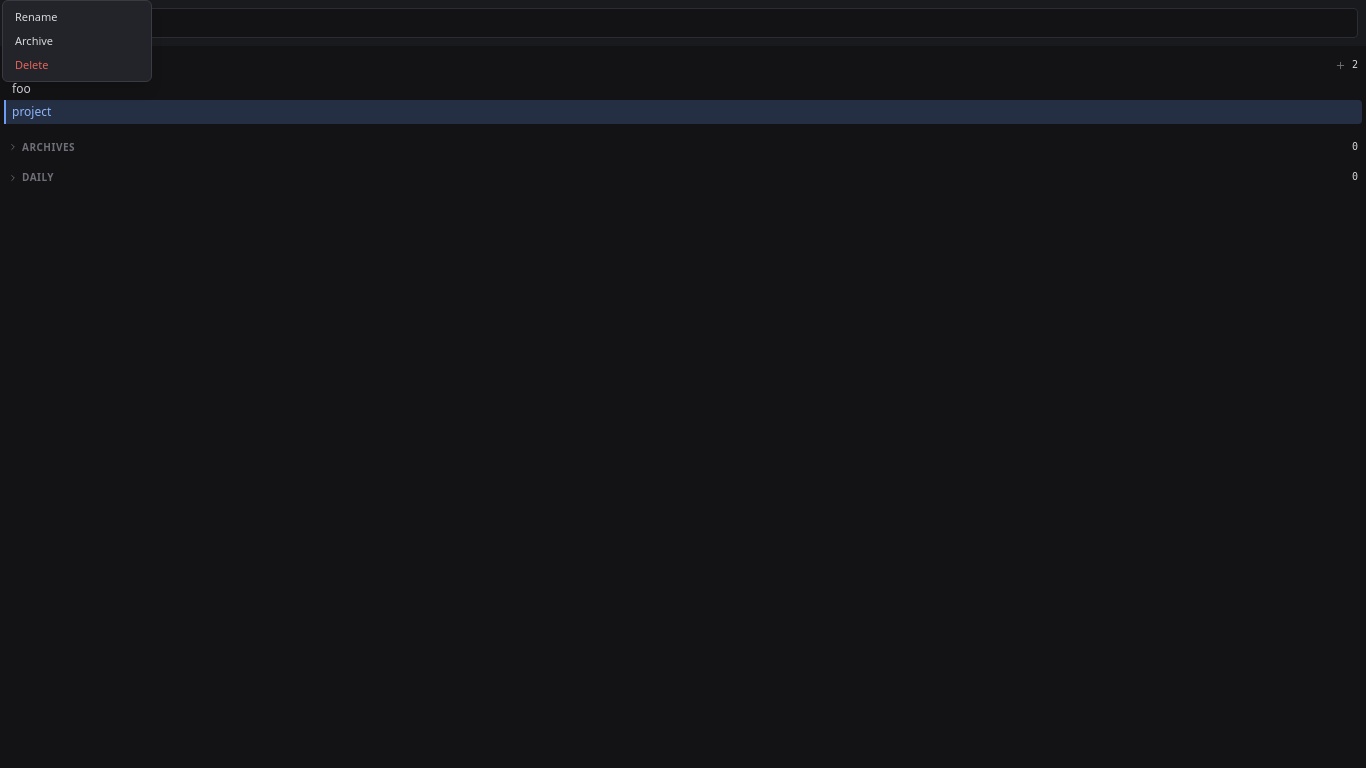
RenameNoteDialog › renames a non-current note without touching the open editor
Click the menu item "Rename".
click(36, 16)  # box [15, 9, 58, 24]
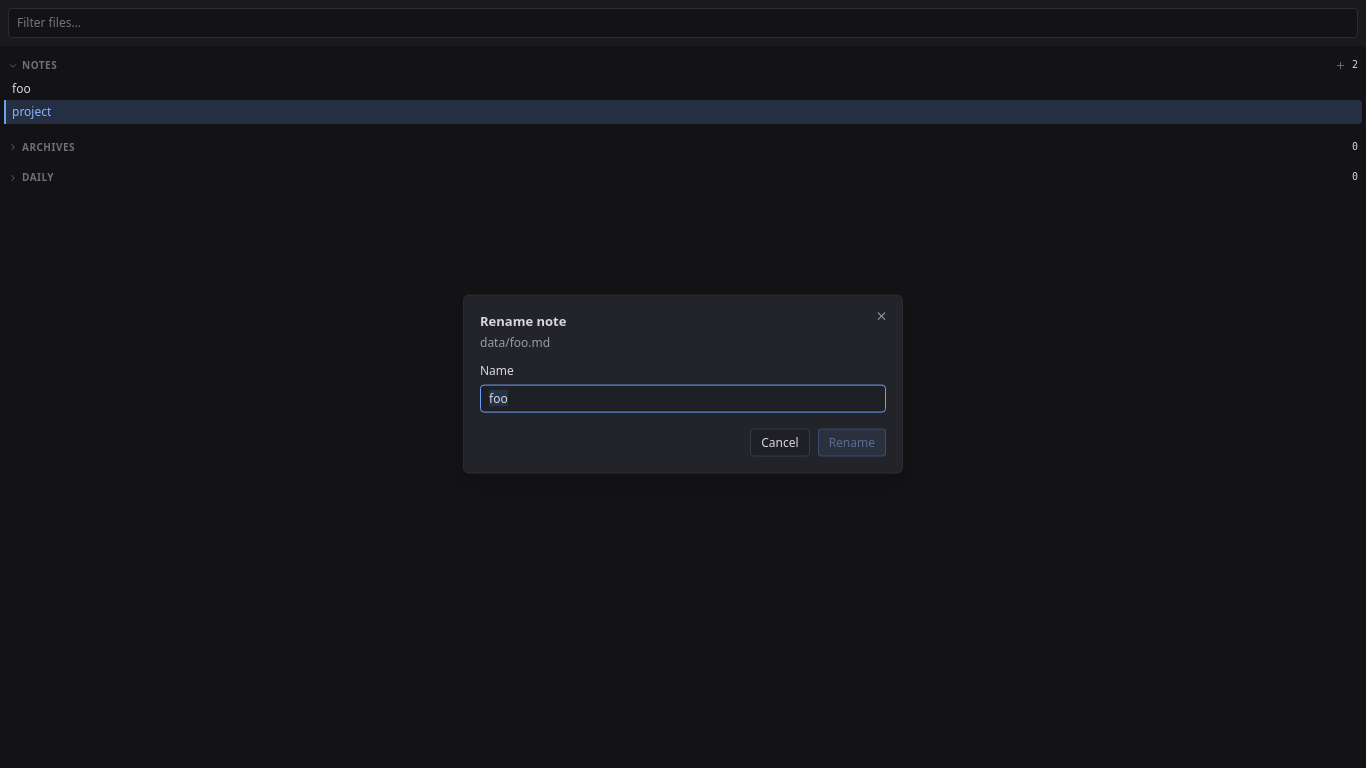
Now the field with test id "rename-note-name" is shown
Now the field with test id "rename-note-name" holds "foo"
Replace the text in the field with test id "rename-note-name" with "bar" at (683, 398), box [480, 384, 886, 412]
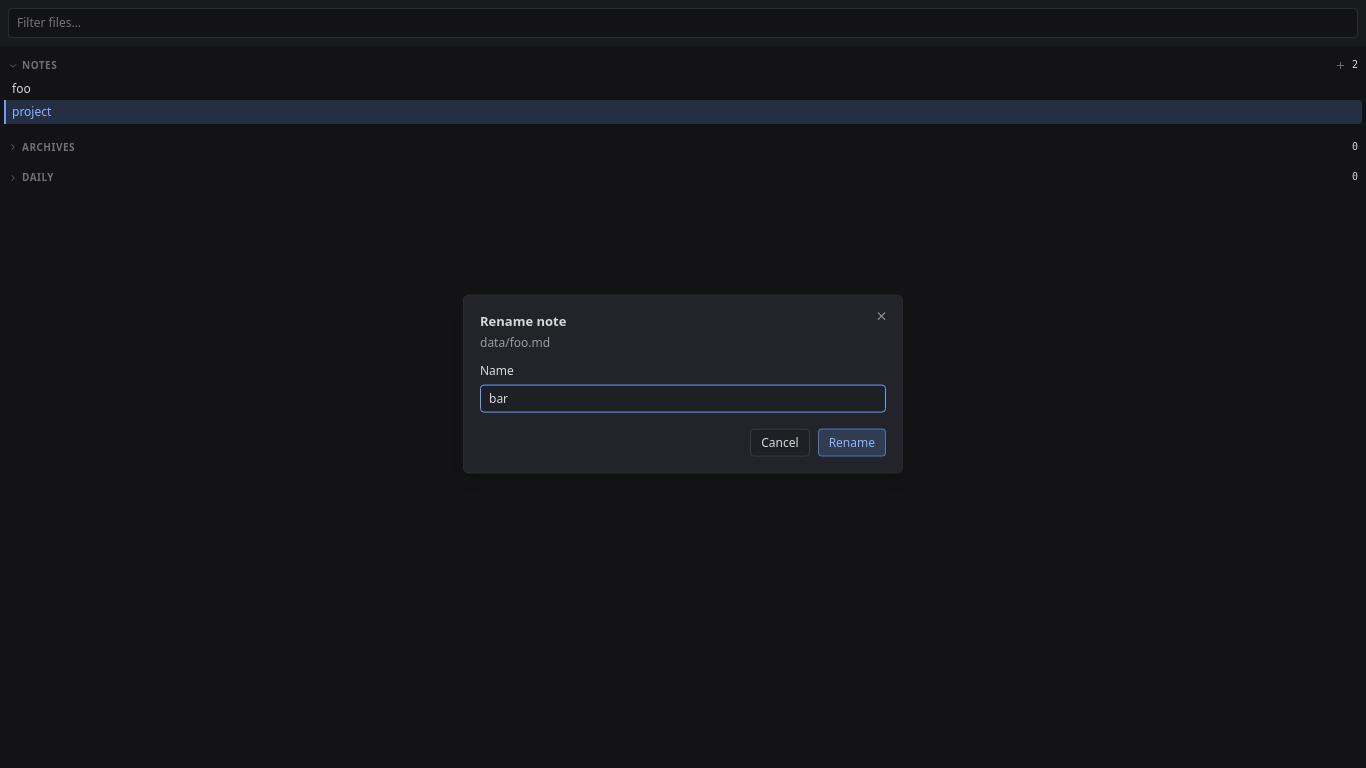
Click the button with test id "rename-note-submit".
click(852, 442)  # box [818, 428, 886, 456]
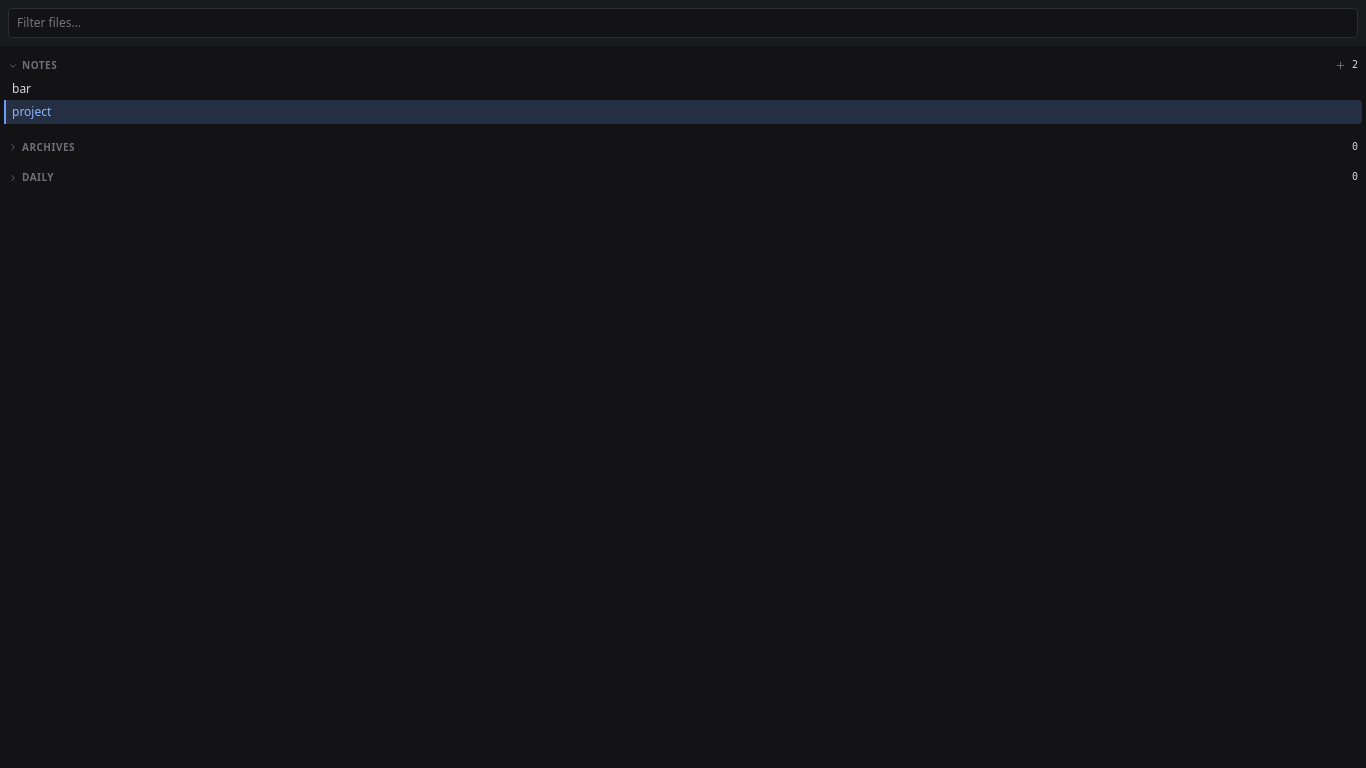
Now the text "bar" is shown, box [12, 80, 31, 97]
